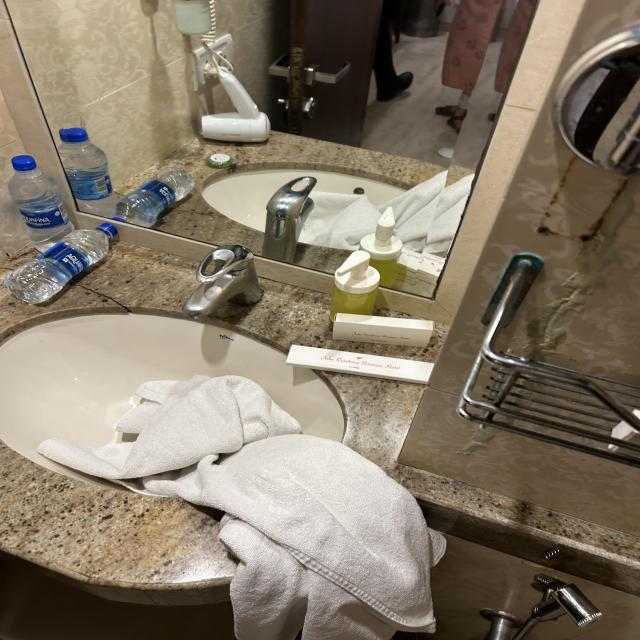mess: (0, 209, 486, 640)
